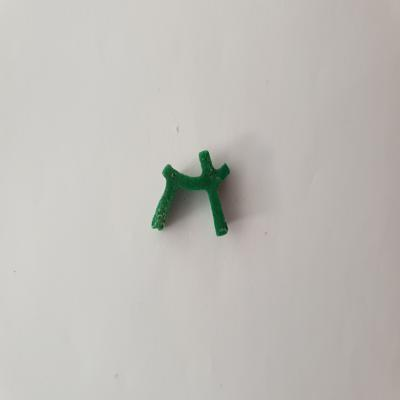plastic: (149, 147, 238, 241)
